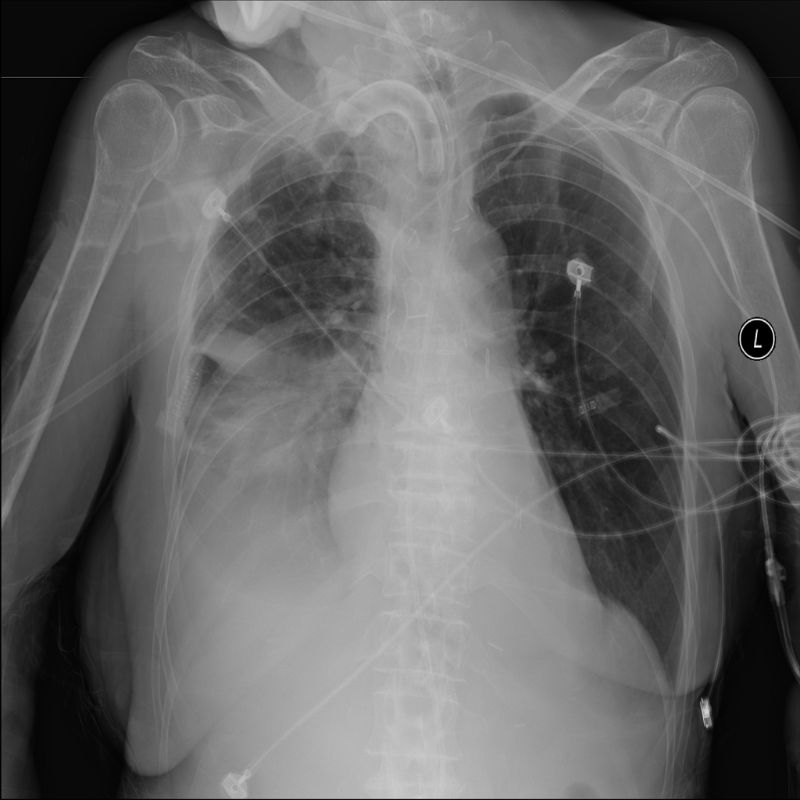PLEURAL EFFUSION: (176, 369, 339, 636)
